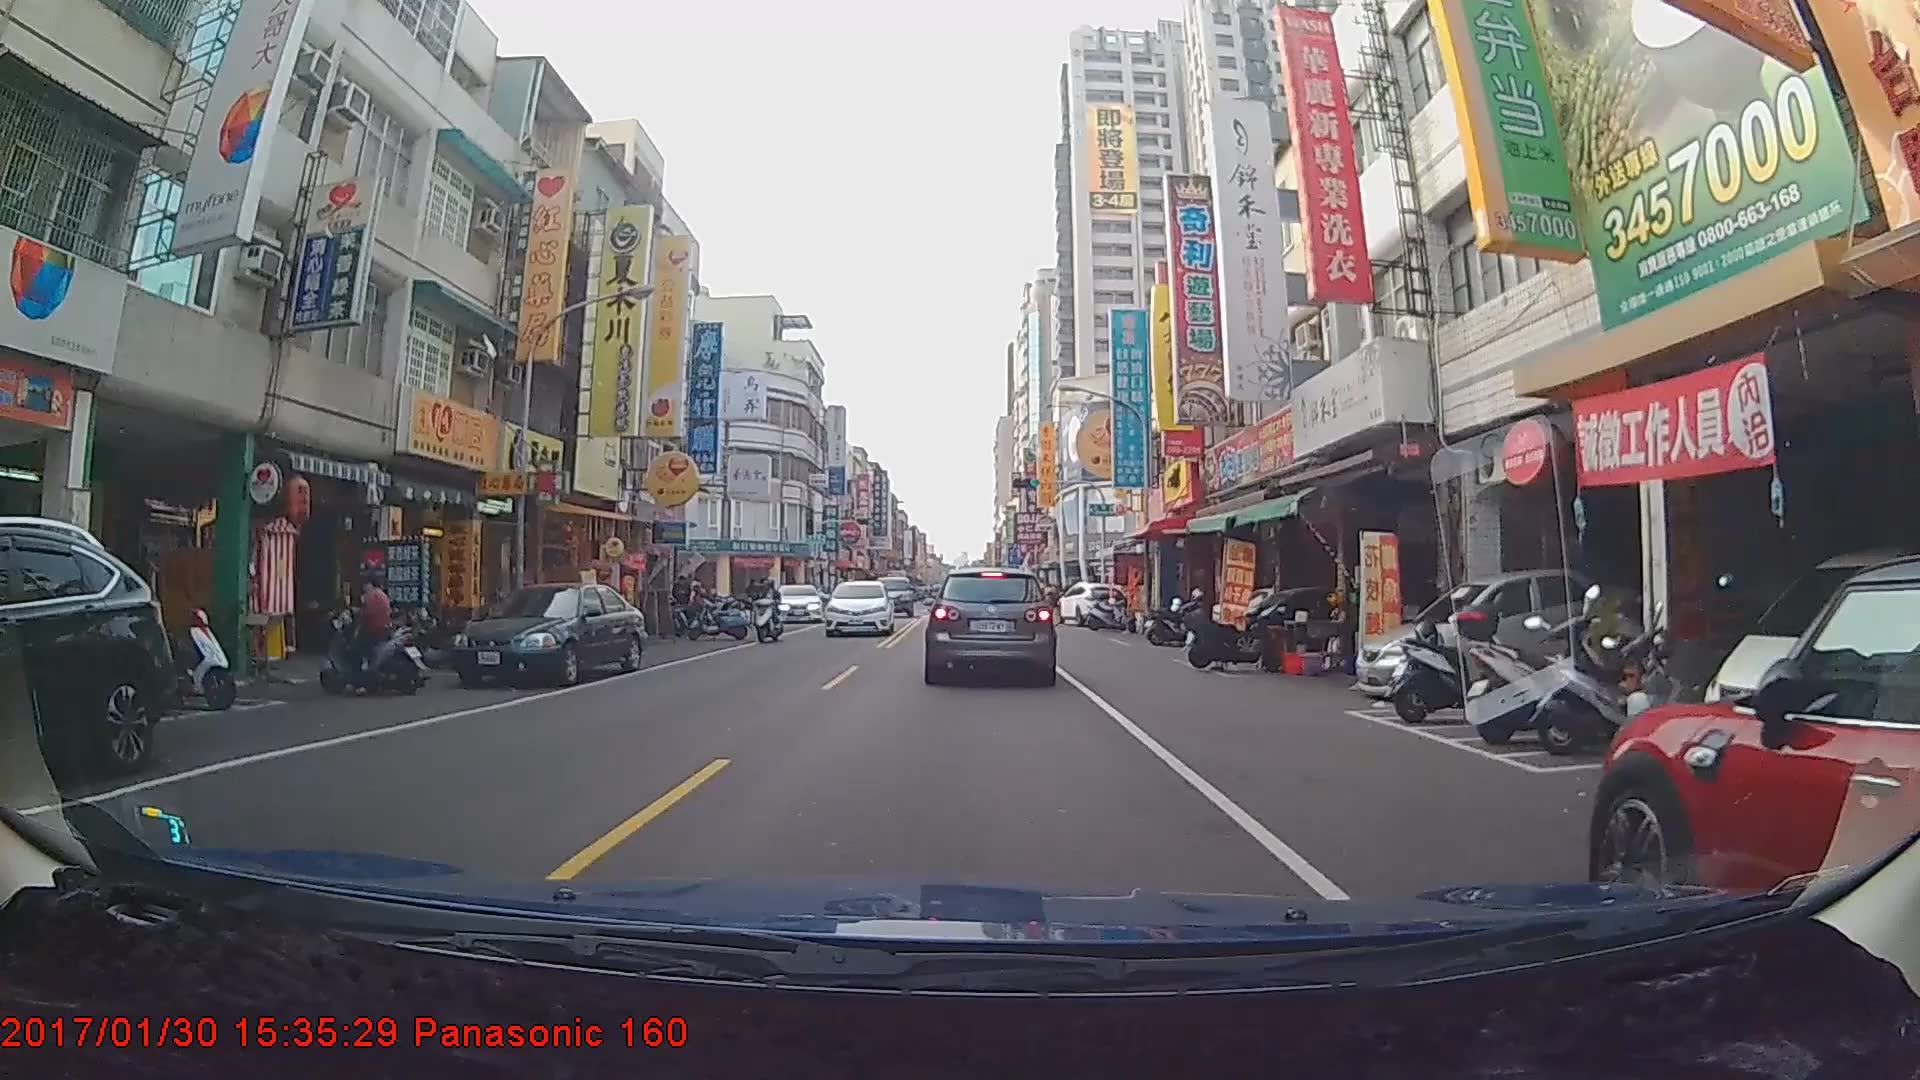pedestrian: (1043, 584, 1063, 628)
rider: (316, 572, 435, 705), (753, 584, 787, 646)
vehicle: (1590, 553, 1917, 972), (0, 521, 172, 802), (451, 587, 651, 685), (925, 564, 1056, 683), (826, 578, 891, 636), (1055, 582, 1131, 630), (772, 582, 823, 623), (869, 577, 913, 620)
